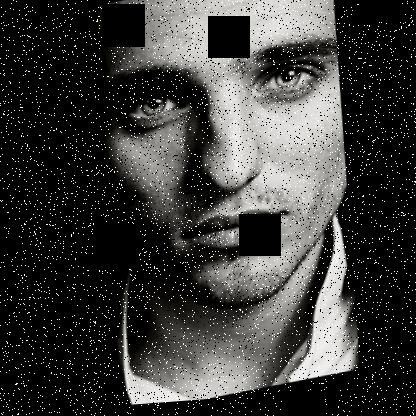Male: (55, 0, 367, 336)
